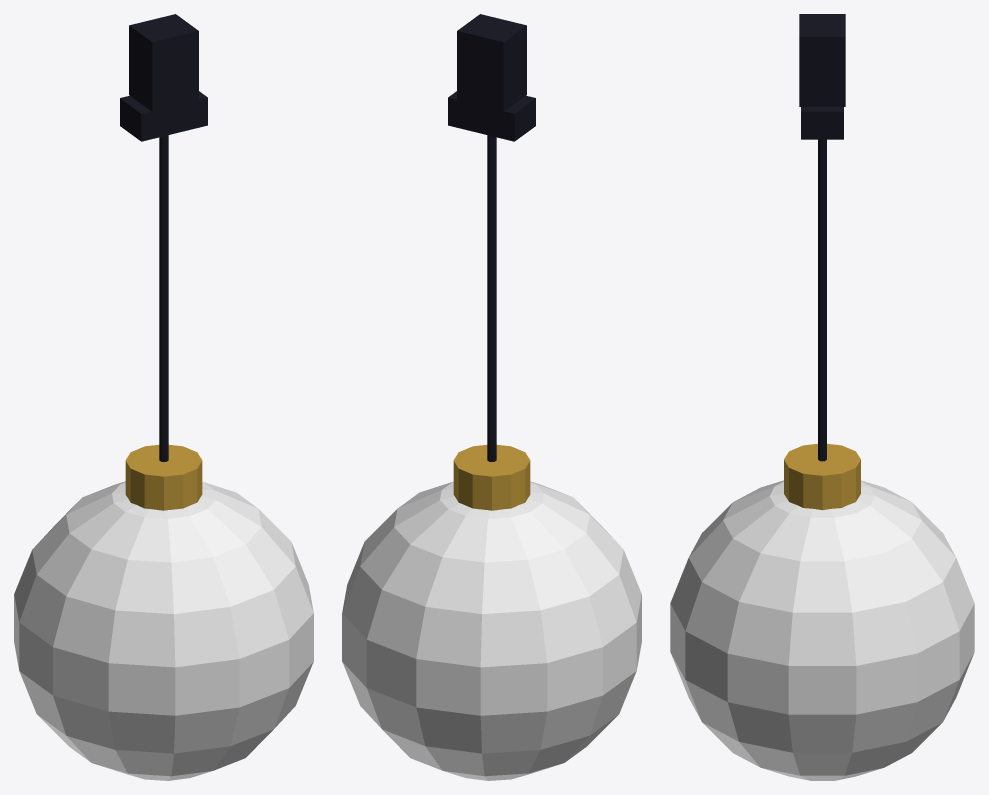
The model's file is SM_Build_Schienenleuchte_Pendel_Kugel.fbx.
The picture shows the model from 3 angles, left to right: view 1: azimuth 30°, elevation 25°; view 2: azimuth 150°, elevation 25°; view 3: azimuth 270°, elevation 25°; orthographic projection.
Parts seen in each view (by area): view 1: Schienenleuchte_Pendel_Kugel; view 2: Schienenleuchte_Pendel_Kugel; view 3: Schienenleuchte_Pendel_Kugel.
Boxes of the visible parts, left/top/right/bottom form: Schienenleuchte_Pendel_Kugel: left=14, top=14, right=313, bottom=780; Schienenleuchte_Pendel_Kugel: left=342, top=14, right=641, bottom=780; Schienenleuchte_Pendel_Kugel: left=670, top=14, right=974, bottom=780.
Size of the model in its own units: 0.192 by 0.53 by 0.197.
